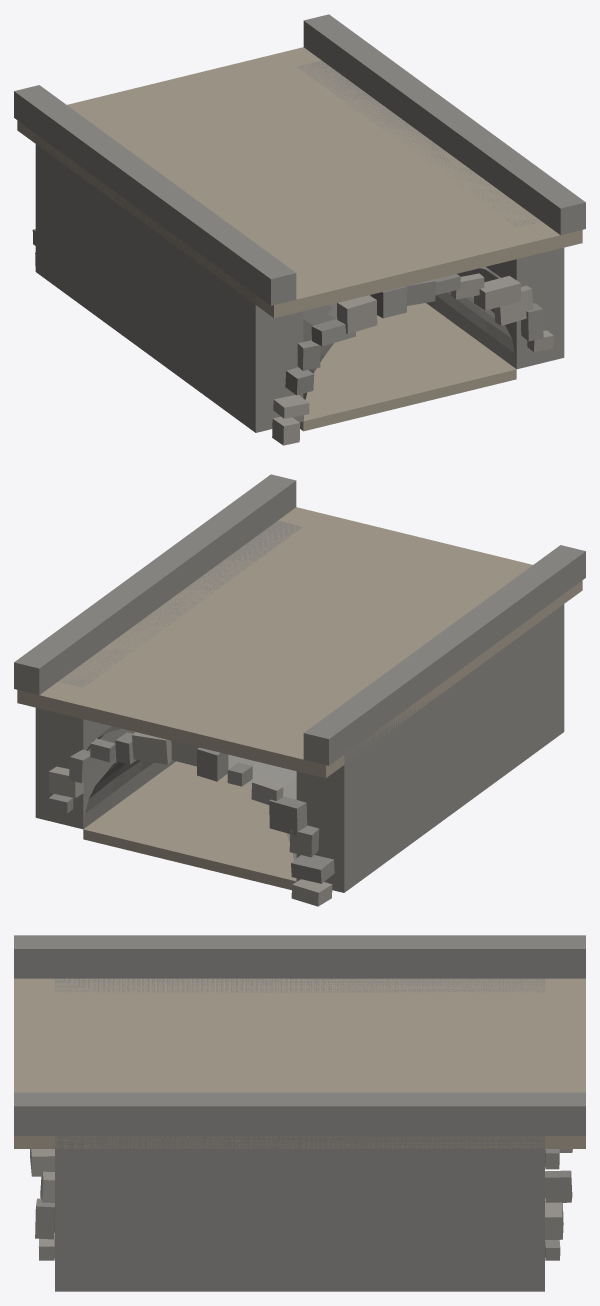
File: cp_huddlestone_arch.glb
3 views of the same model, one above another, from view 1: azimuth 30°, elevation 25°; view 2: azimuth 150°, elevation 25°; view 3: azimuth 270°, elevation 25° (orthographic). The views are drawn at different scales.
Parts seen in each view (by area): view 1: HuddlestoneArch; view 2: HuddlestoneArch; view 3: HuddlestoneArch.
Part boxes in pixels (x1,y1,x2,y2): HuddlestoneArch: [14, 14, 585, 445]; HuddlestoneArch: [14, 474, 585, 906]; HuddlestoneArch: [14, 935, 585, 1291].
Bounding box in the file's own units: 9.91 × 5.35 × 14.
